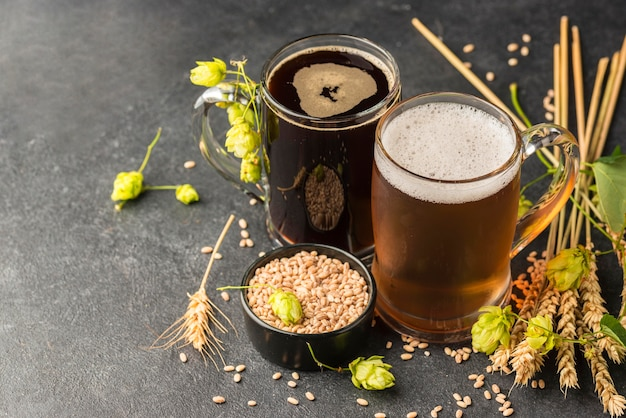alcohol: (363, 93, 581, 347), (258, 31, 402, 264)
